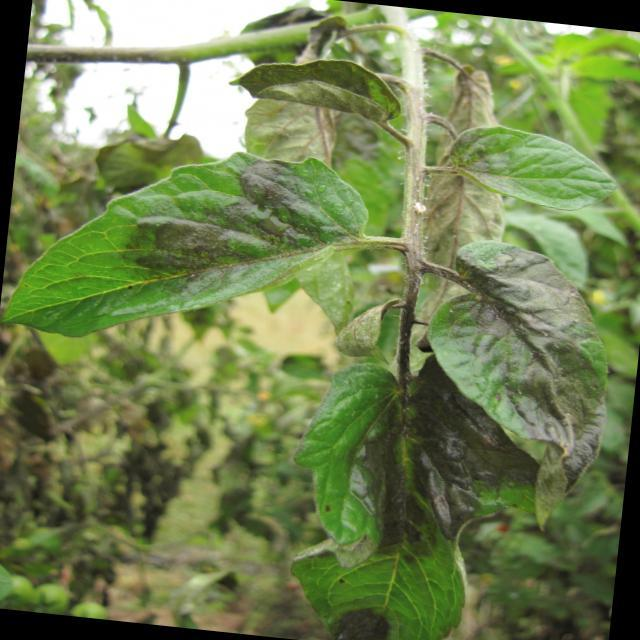Tomato late blight leaf: (0, 122, 376, 369), (263, 345, 539, 640), (399, 237, 640, 540)
